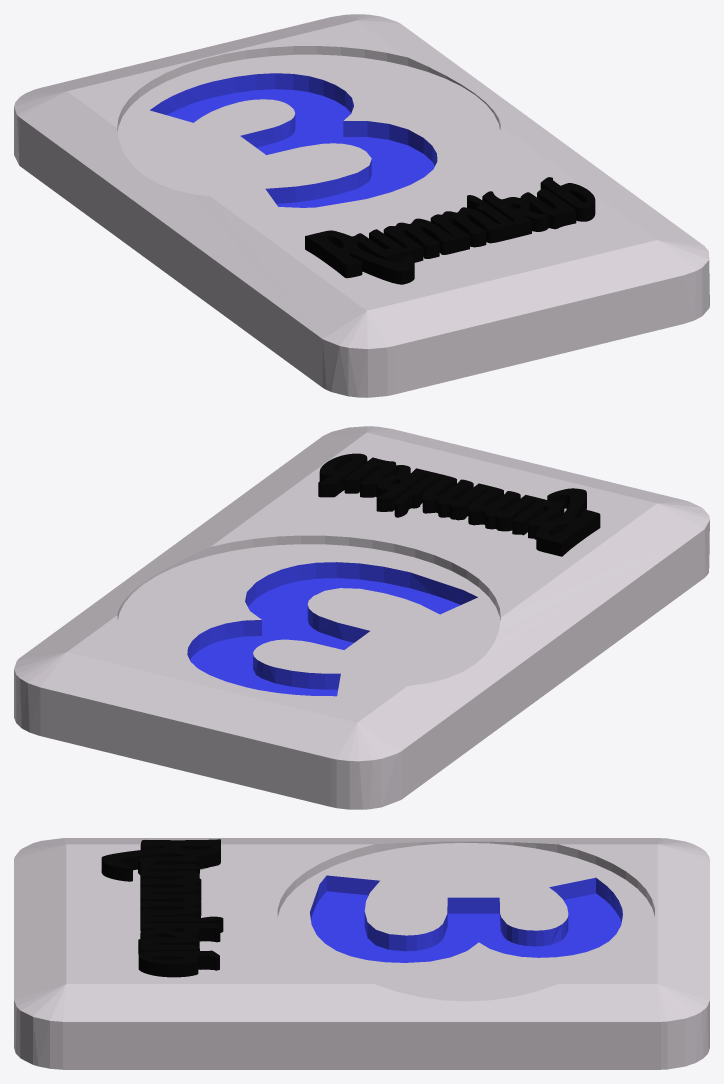
The picture shows the model from 3 angles, top to bottom: view 1: azimuth 30°, elevation 25°; view 2: azimuth 150°, elevation 25°; view 3: azimuth 270°, elevation 25°; orthographic projection.
Parts seen in each view (by area): view 1: Rummikub 3 Fixed.001; view 2: Rummikub 3 Fixed.001; view 3: Rummikub 3 Fixed.001.
Part boxes in pixels (x1,y1,x2,y2): Rummikub 3 Fixed.001: (14,14,709,397); Rummikub 3 Fixed.001: (14,426,709,809); Rummikub 3 Fixed.001: (14,838,709,1069).
Bounding box in the file's own units: 2499 × 487 × 4000.
